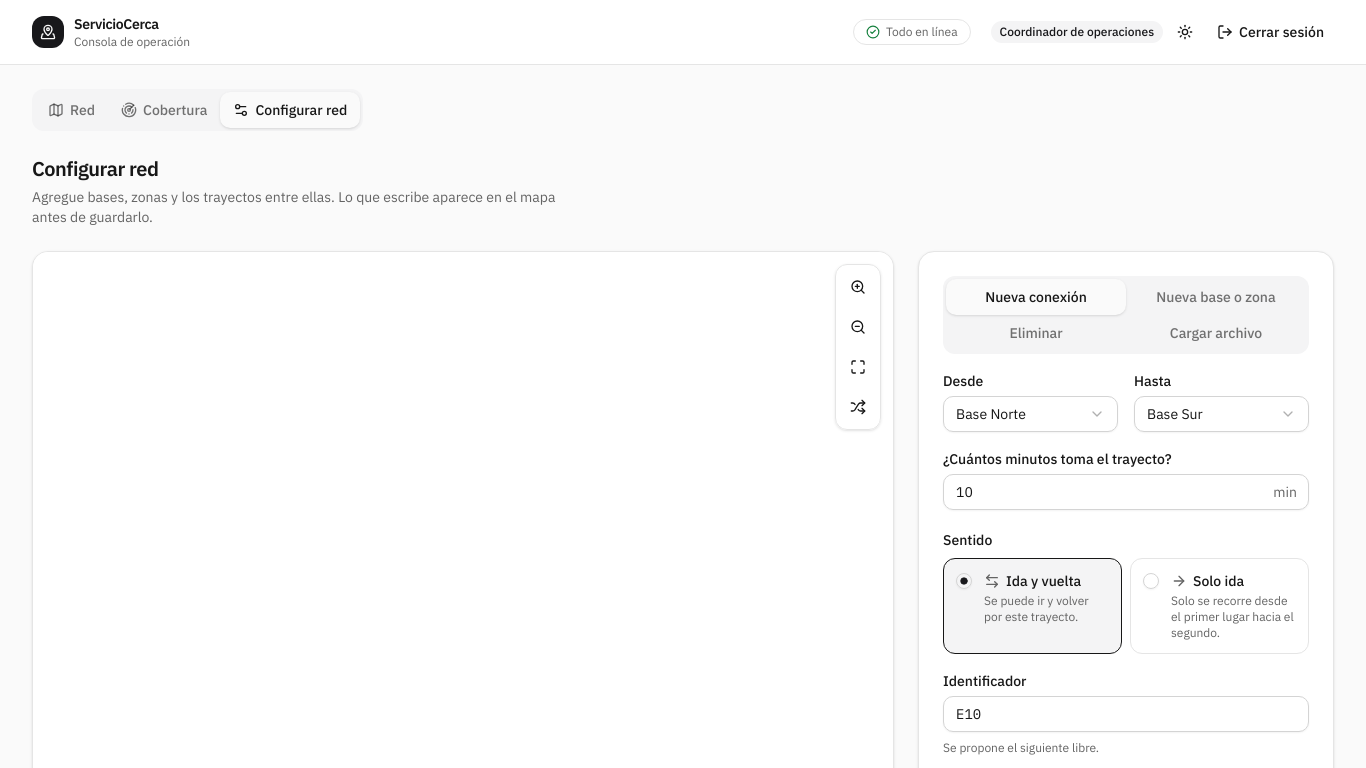
Test: Nueva conexión › guarda una conexión de solo ida, avisa con nombres y actualiza el mapa
This screenshot has width=1366, height=768.
Expected: the heading "Configurar red" is shown, [32,155,158,182]
Click the dropdown named "Hasta" at (1222,414), box [1134,396,1309,432]
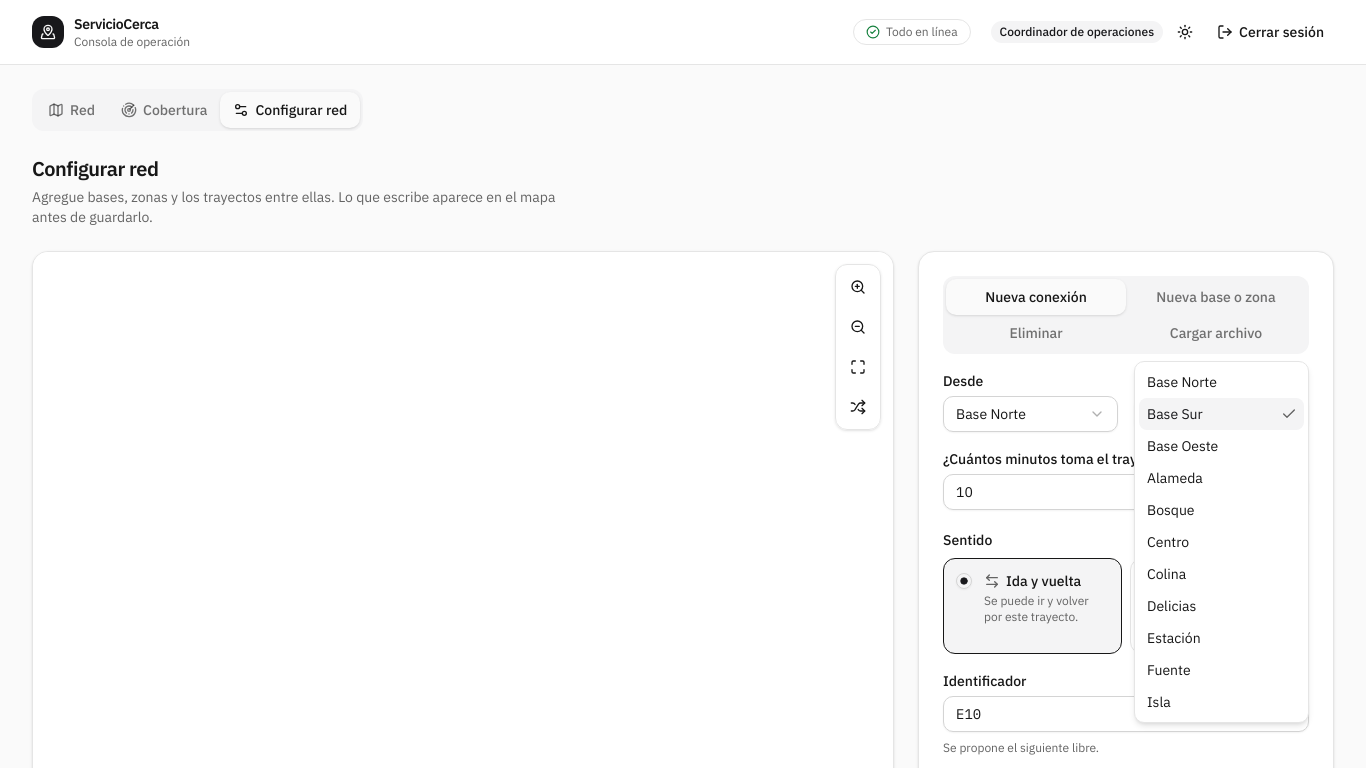
Click the option "Isla" at (1159,702), box [1147,693,1171,711]
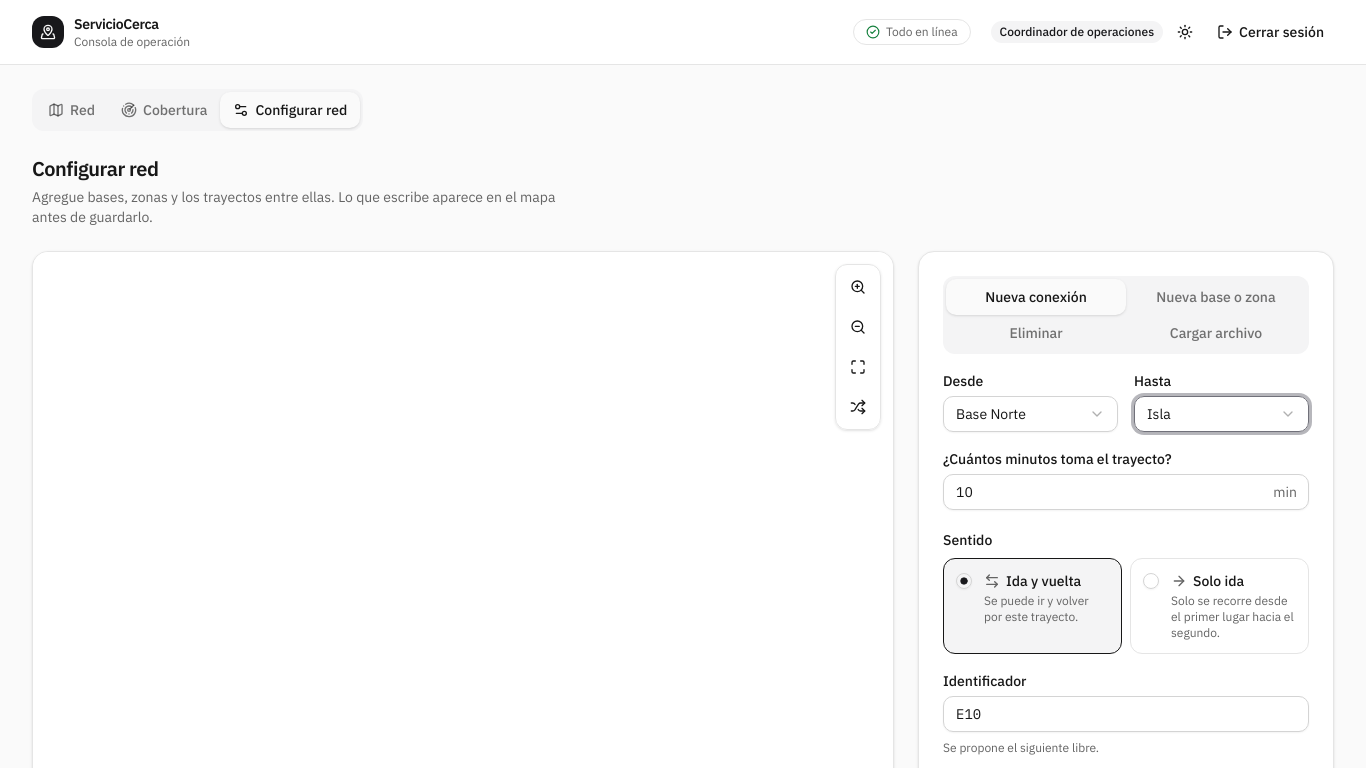
Replace the text in the number field labelled "¿Cuántos minutos toma el trayecto?" with "12" at (1126,492), box [943,474,1309,510]
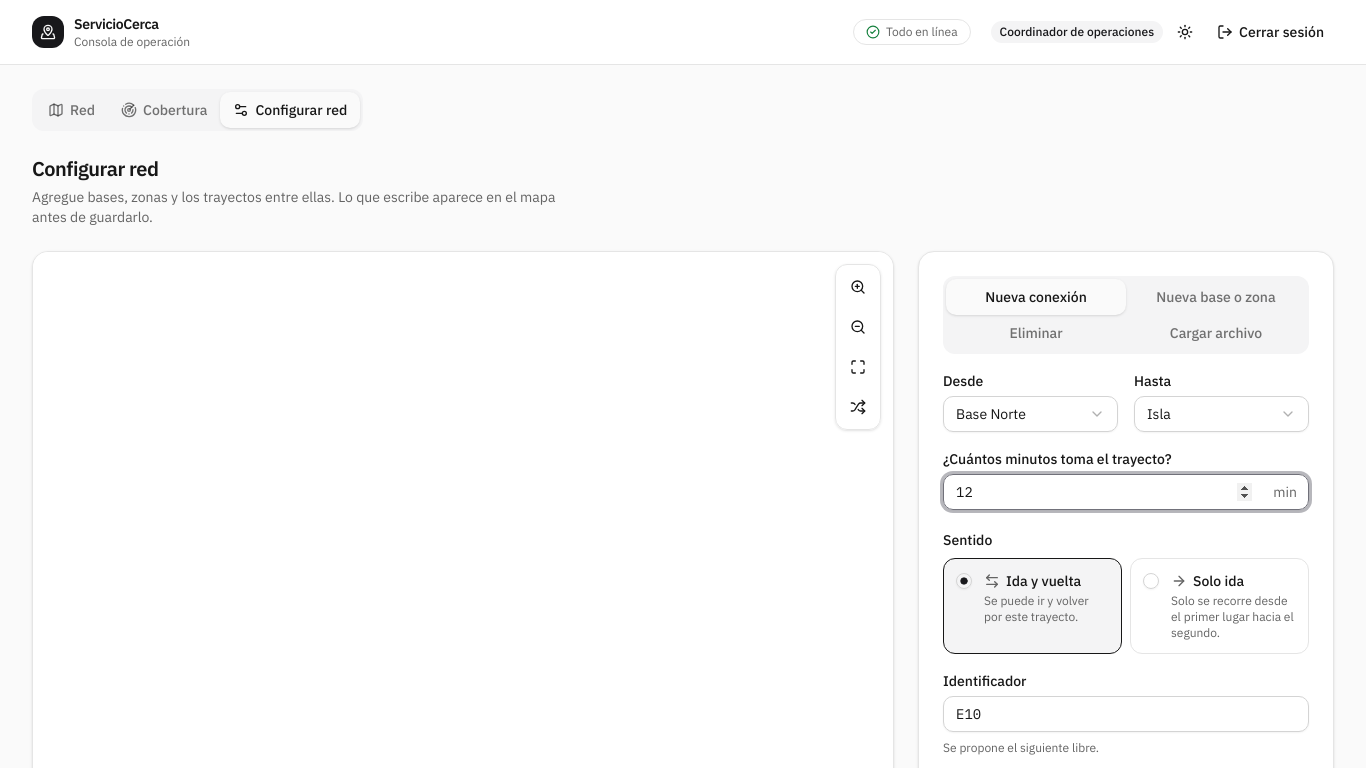
Click the 2nd radio button named "Solo ida" at (1151,581), box [1143,573,1159,589]
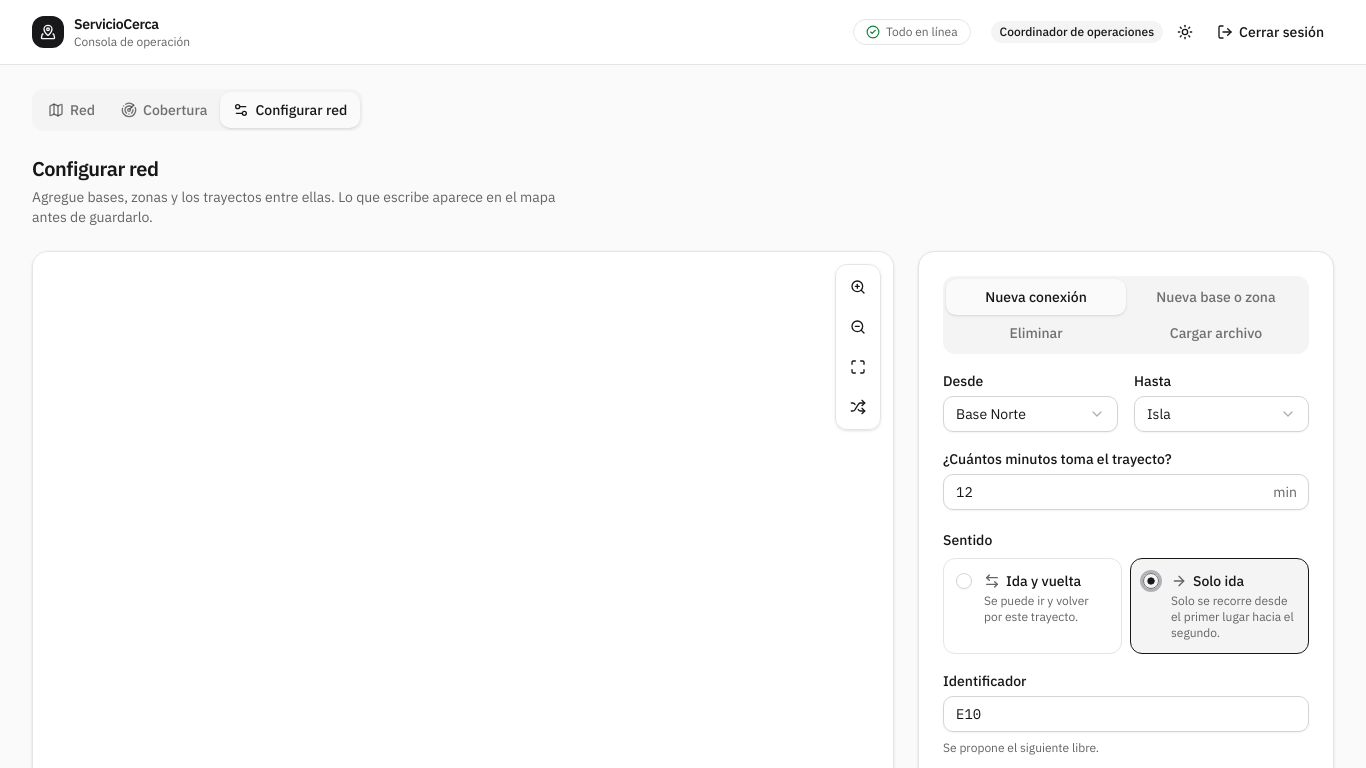
Replace the text in the field labelled "Identificador" with "e_nueva" at (1126,714), box [943,696,1309,732]
(page scrolled)
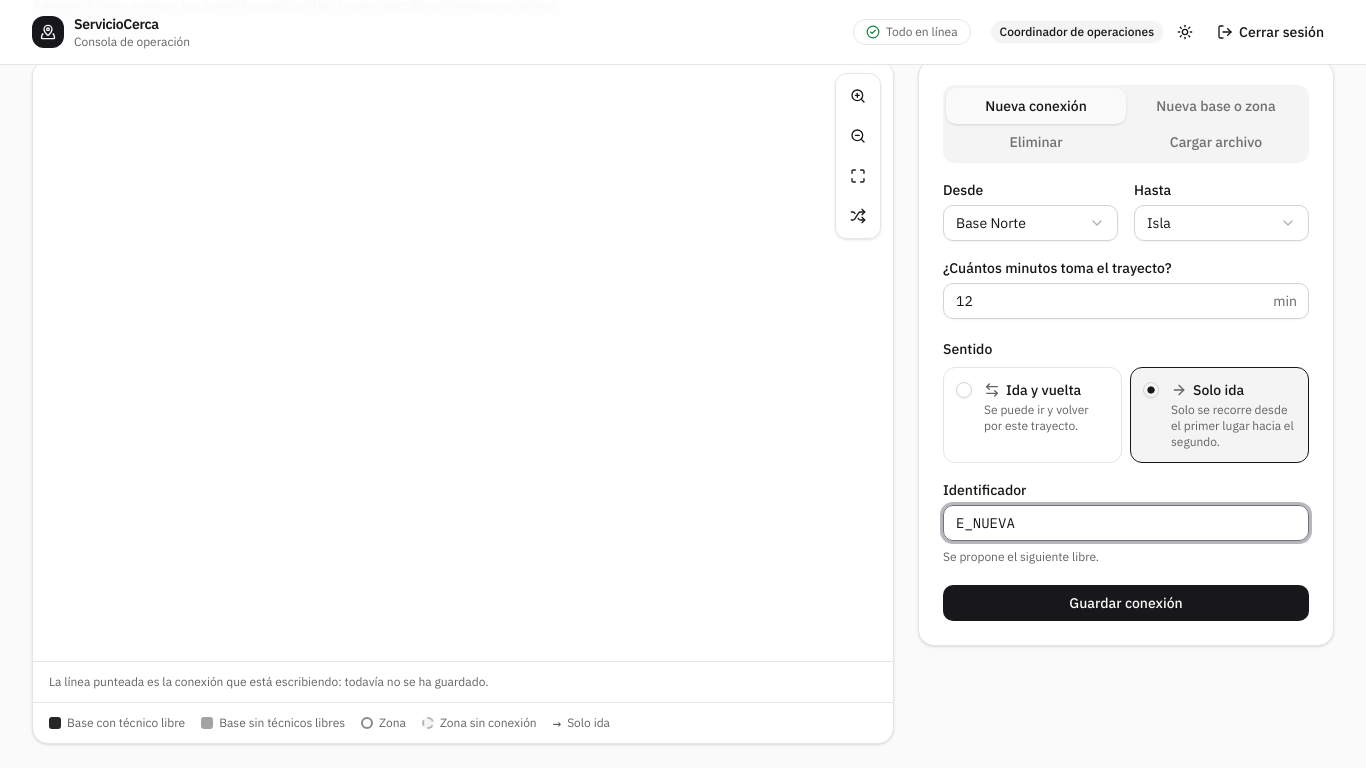
Click the button "Guardar conexión" at (1126,603), box [943,585,1309,621]
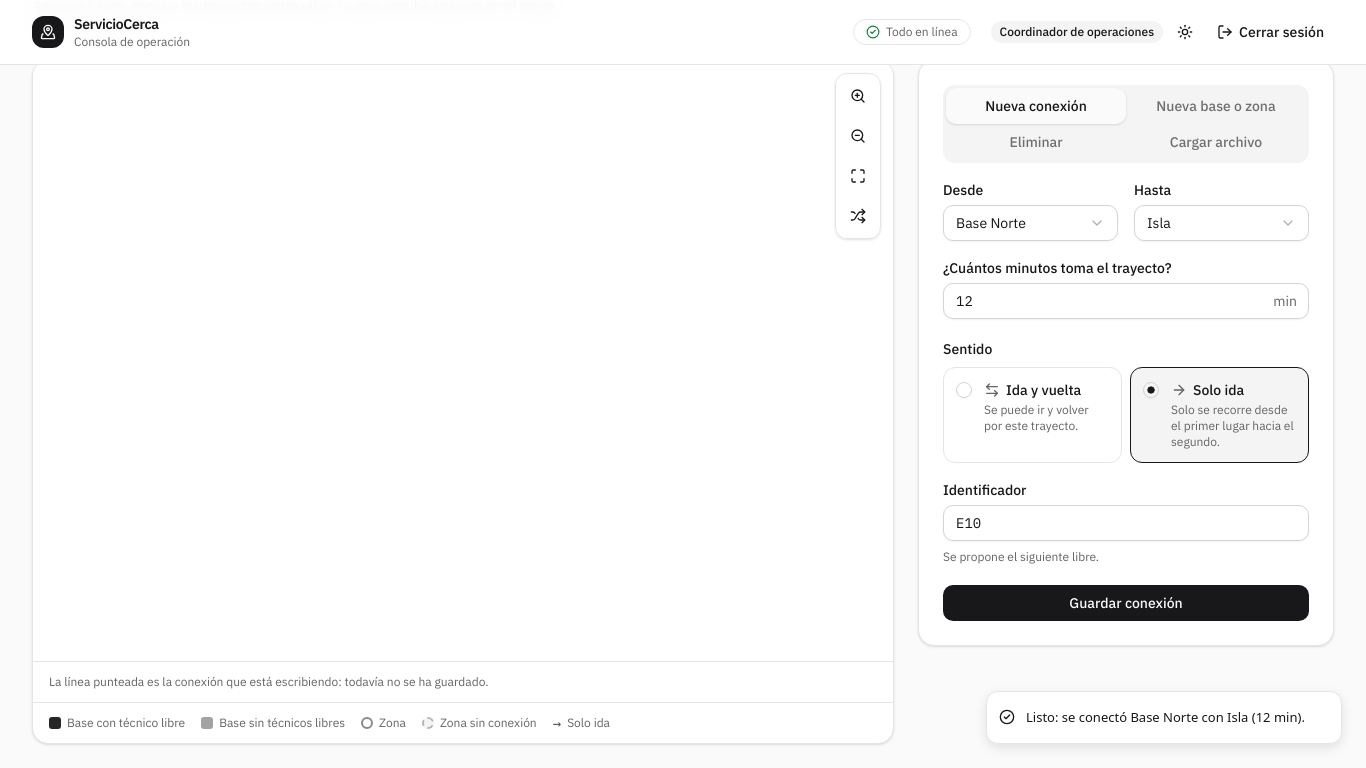
Expected: the text "Listo: se conectó Base Norte con Isla (12 min)." is shown, [1026,708,1305,727]
Expected: the field labelled "Identificador" holds "E10", [943,505,1309,541]
